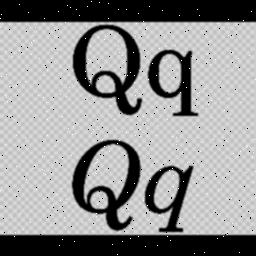q: (69, 126, 141, 234), (70, 22, 146, 118), (146, 44, 202, 122), (143, 158, 197, 234)
